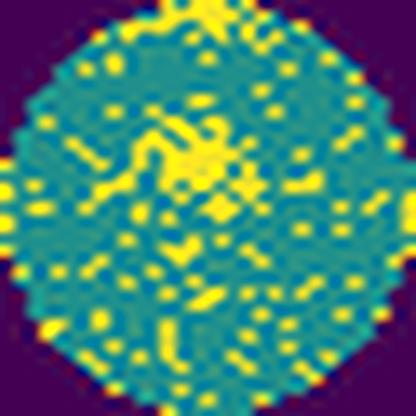Loc: (78, 102, 262, 219)
